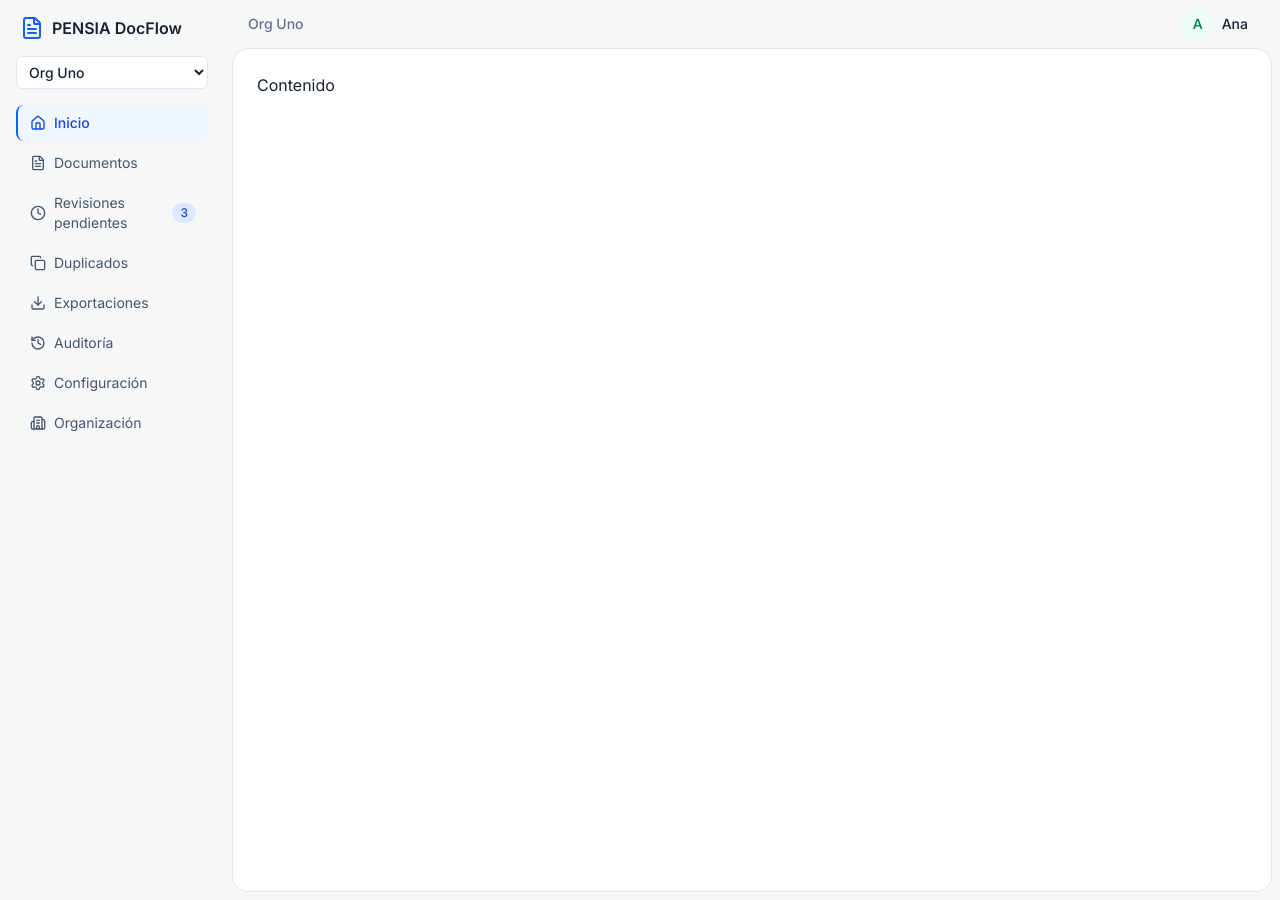
Test: AppLayout › renderiza sidebar, marca, org switcher, user menu y contenido
Expected: the text "PENSIA DocFlow" is shown, x1=52 y1=16 x2=182 y2=40
Expected: the text "Contenido" is shown, x1=257 y1=75 x2=335 y2=95
Click the button "A Ana" at (1217, 24), box x1=1178 y1=4 x2=1256 y2=44
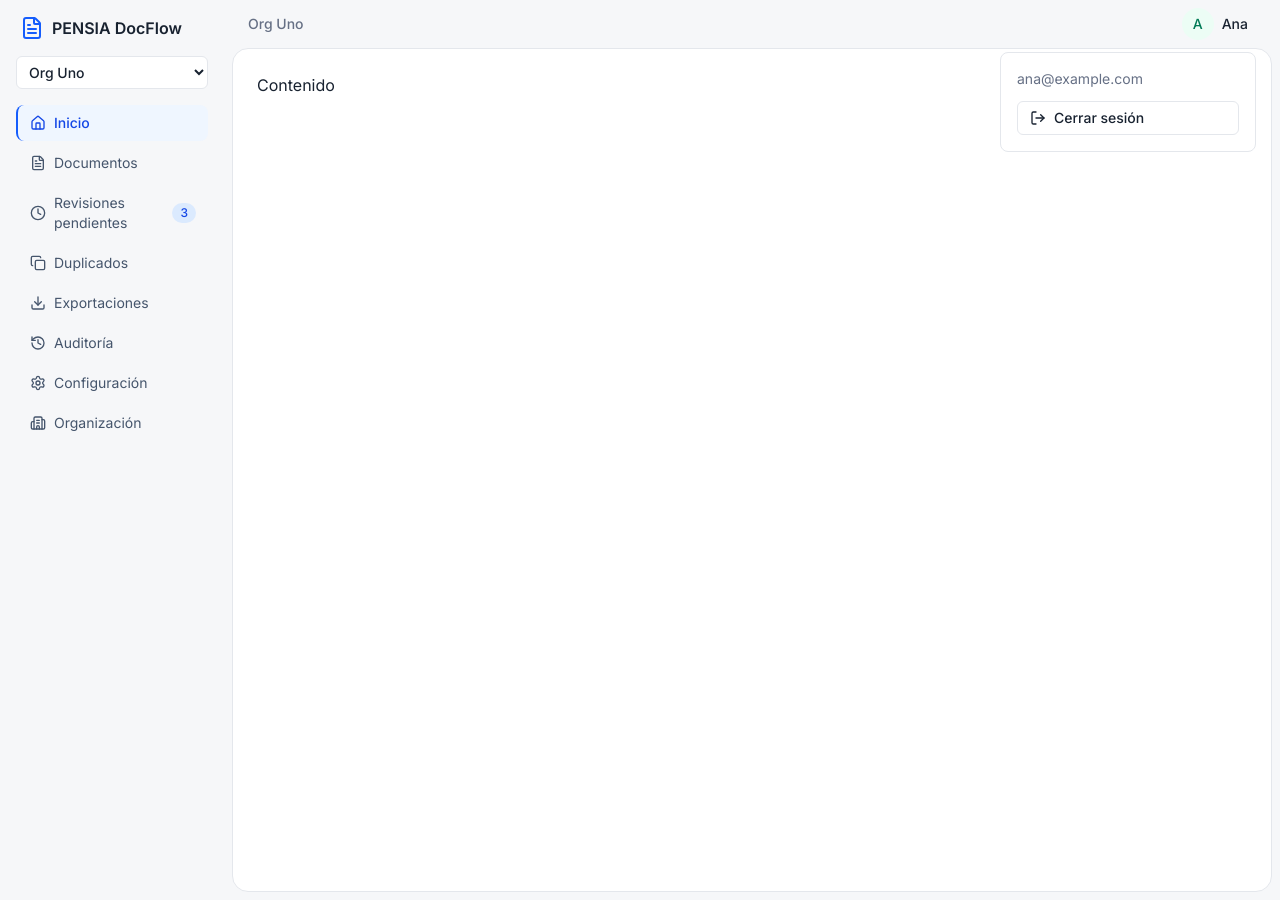
Now the text "ana@example.com" is shown, box x1=1017 y1=70 x2=1143 y2=87
Now the button "Cerrar sesión" is shown, box x1=1017 y1=101 x2=1239 y2=135
